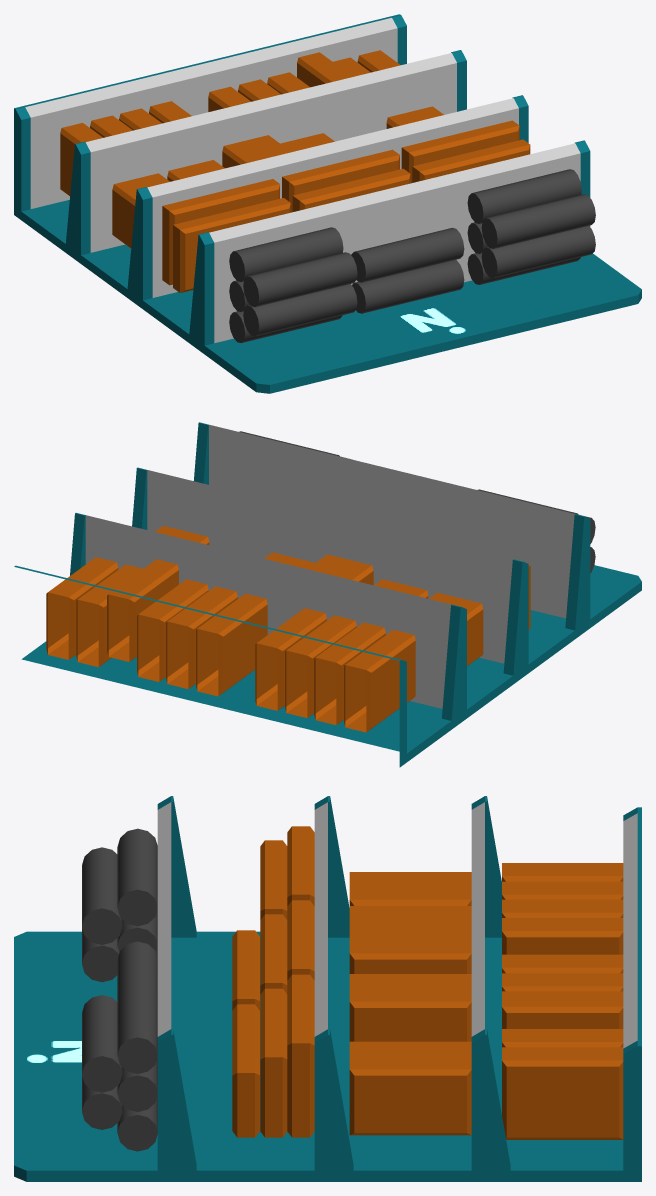
Rendered from shopping_shelves.glb.
The picture shows the model from 3 angles, top to bottom: view 1: azimuth 30°, elevation 25°; view 2: azimuth 150°, elevation 25°; view 3: azimuth 270°, elevation 25°; orthographic projection. The views are drawn at different scales.
Visible parts, largest first — view 1: shopping_shelves; view 2: shopping_shelves; view 3: shopping_shelves.
Boxes of the visible parts, left/top/right/bottom form: shopping_shelves: left=14, top=14, right=641, bottom=393; shopping_shelves: left=14, top=422, right=641, bottom=767; shopping_shelves: left=14, top=796, right=641, bottom=1181.
Bounding box in the file's own units: 2 × 0.5728 × 2.22.
